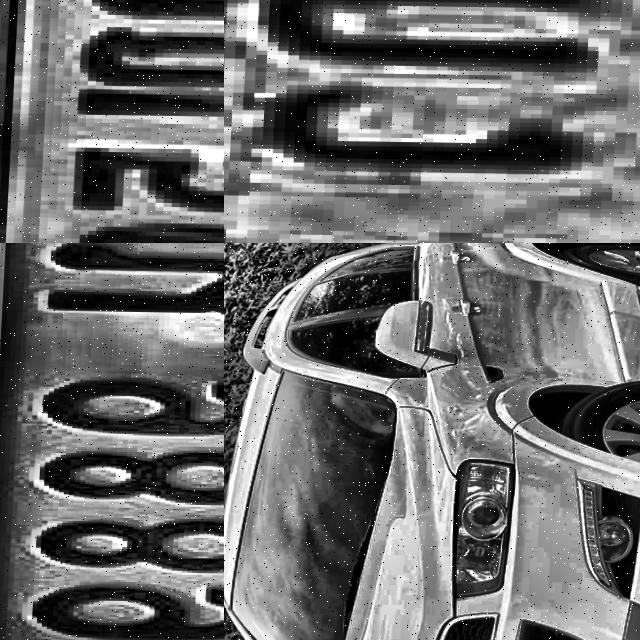license-plate: (224, 0, 640, 243), (0, 243, 224, 640), (0, 0, 224, 243)
